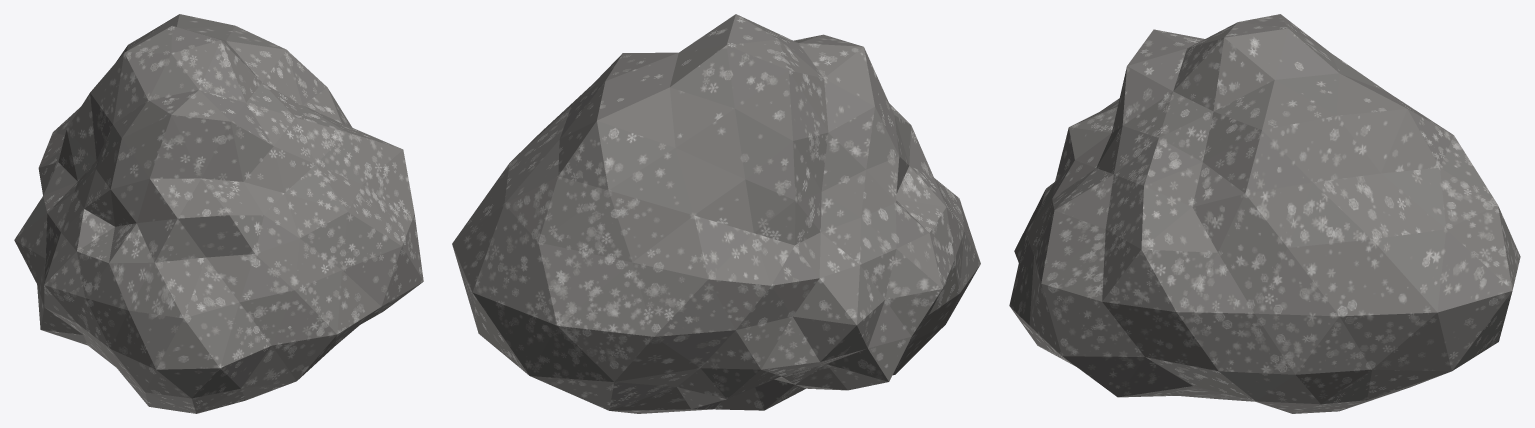
File: Rock_Chunky.obj
3 views of the same model, side by side, from view 1: azimuth 30°, elevation 25°; view 2: azimuth 150°, elevation 25°; view 3: azimuth 270°, elevation 25° (orthographic). The views are drawn at different scales.
Parts seen in each view (by area): view 1: Rock_Chunky; view 2: Rock_Chunky; view 3: Rock_Chunky.
Part boxes in pixels (x1,y1,x2,y2): Rock_Chunky: [14, 14, 423, 413]; Rock_Chunky: [452, 14, 980, 413]; Rock_Chunky: [1009, 14, 1520, 413].
Bounding box in the file's own units: 3.4 × 2.95 × 3.86.
1 material, 1 textured.
